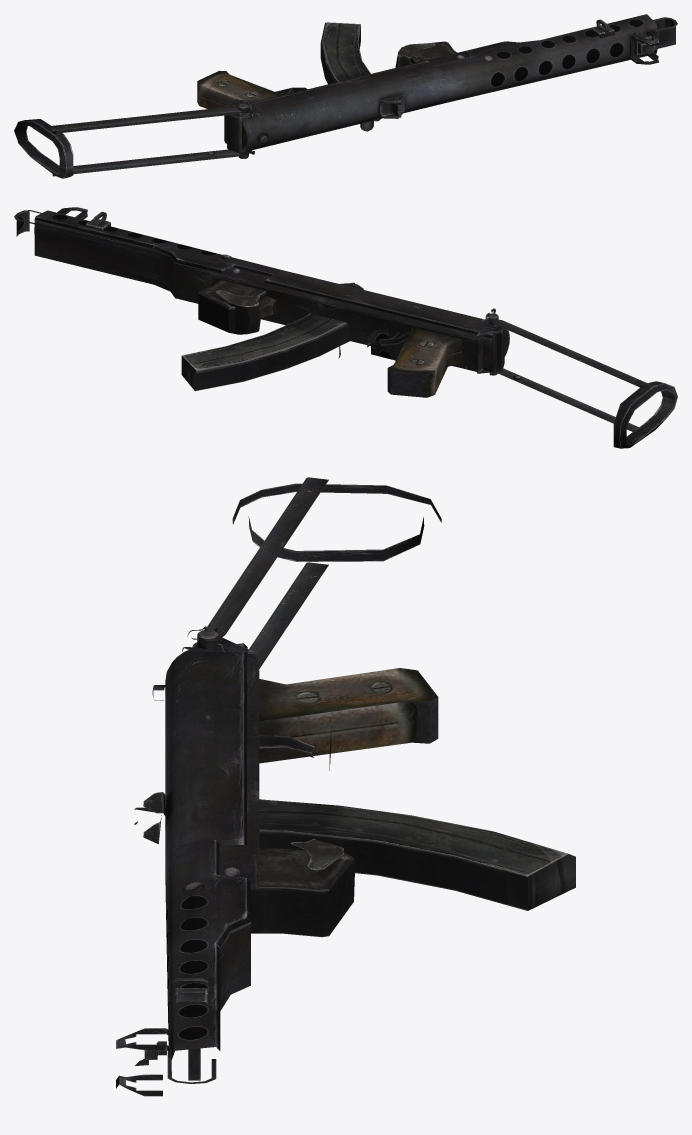
File: viewmodel_pps43.glb
The picture shows the model from 3 angles, top to bottom: view 1: azimuth 30°, elevation 25°; view 2: azimuth 150°, elevation 25°; view 3: azimuth 270°, elevation 25°; orthographic projection. The views are drawn at different scales.
Size of the model in its own units: 32.92 by 3.6 by 10.88.
Materials: 1 (1 with a texture image).
